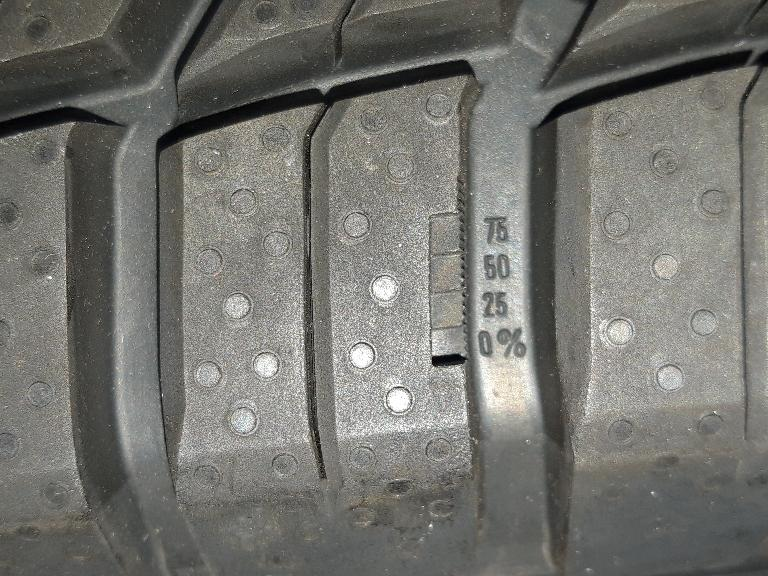temoin:100: (420, 170, 483, 374)
